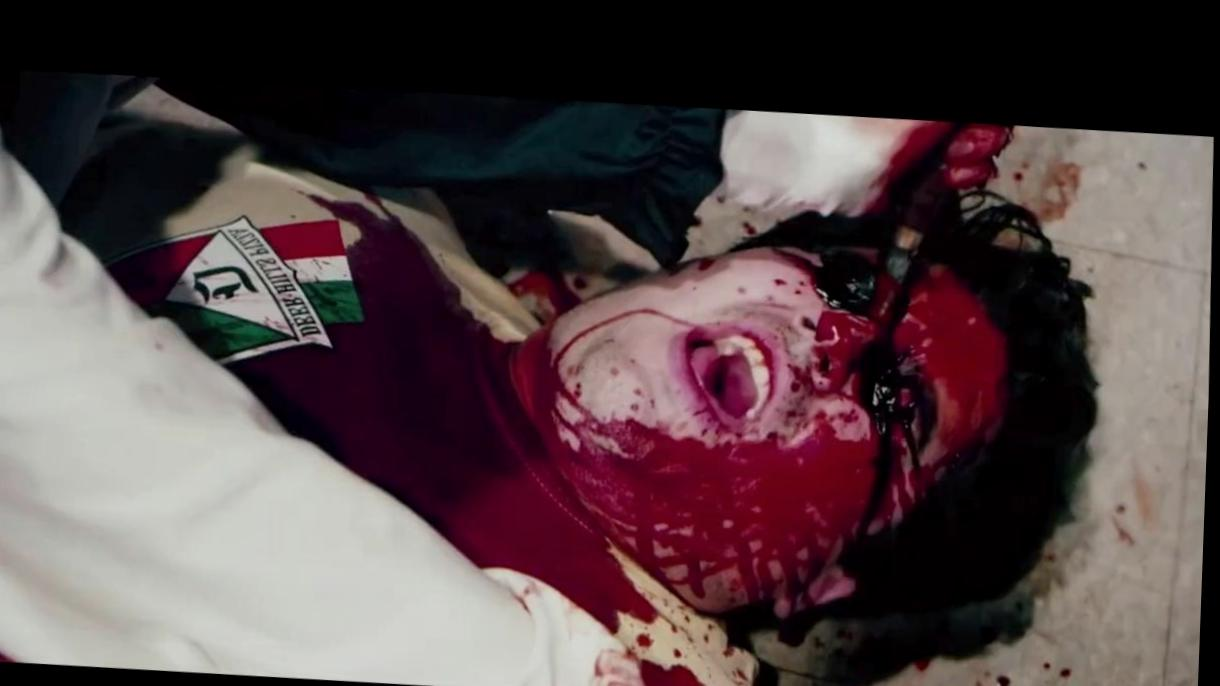Fire: (233, 107, 1102, 686), (1026, 657, 1041, 677), (1000, 659, 1016, 675), (1064, 649, 1076, 666), (1046, 643, 1056, 654)
